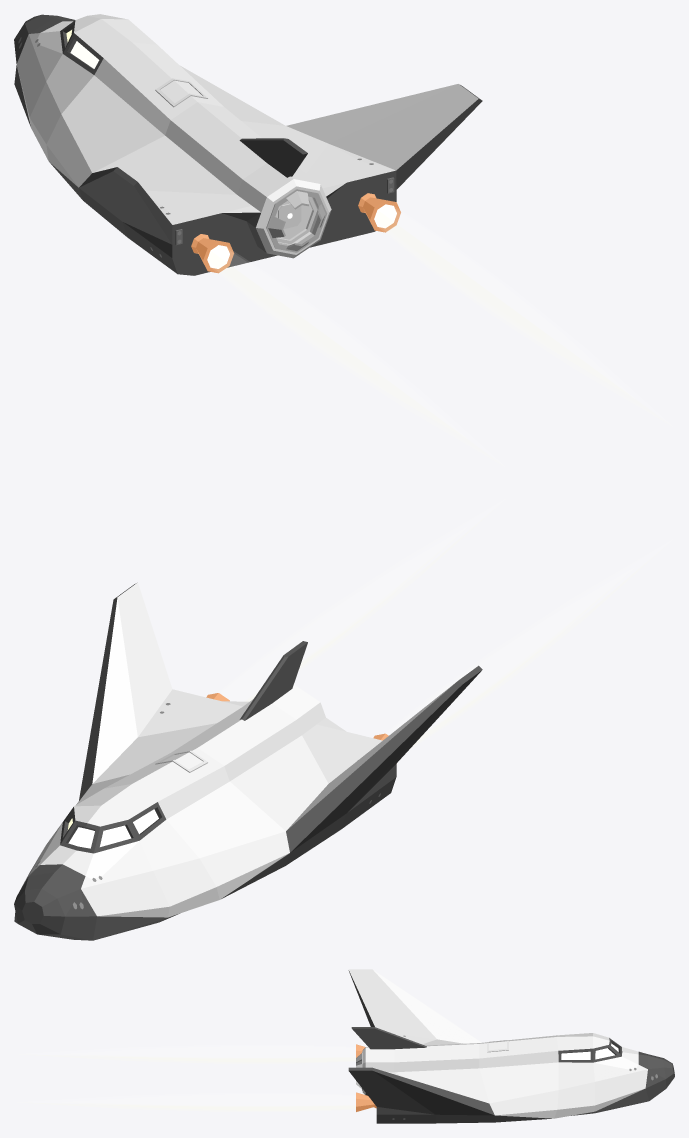
The model's file is low_poly_dreamchaser.glb.
3 views of the same model, one above another, from view 1: azimuth 30°, elevation 25°; view 2: azimuth 150°, elevation 25°; view 3: azimuth 270°, elevation 25° (orthographic). The views are drawn at different scales.
Visible parts, largest first — view 1: Shuttle_1, Port_0; view 2: Shuttle_1; view 3: Shuttle_1.
Boxes of the visible parts, x1,y1,x2,y2 form: Shuttle_1: (14, 14, 482, 275); Port_0: (266, 189, 327, 252); Shuttle_1: (14, 582, 482, 940); Shuttle_1: (348, 969, 674, 1123).
Size of what is drawn, in the model's own units: 9.19 by 3.3 by 25.53.
